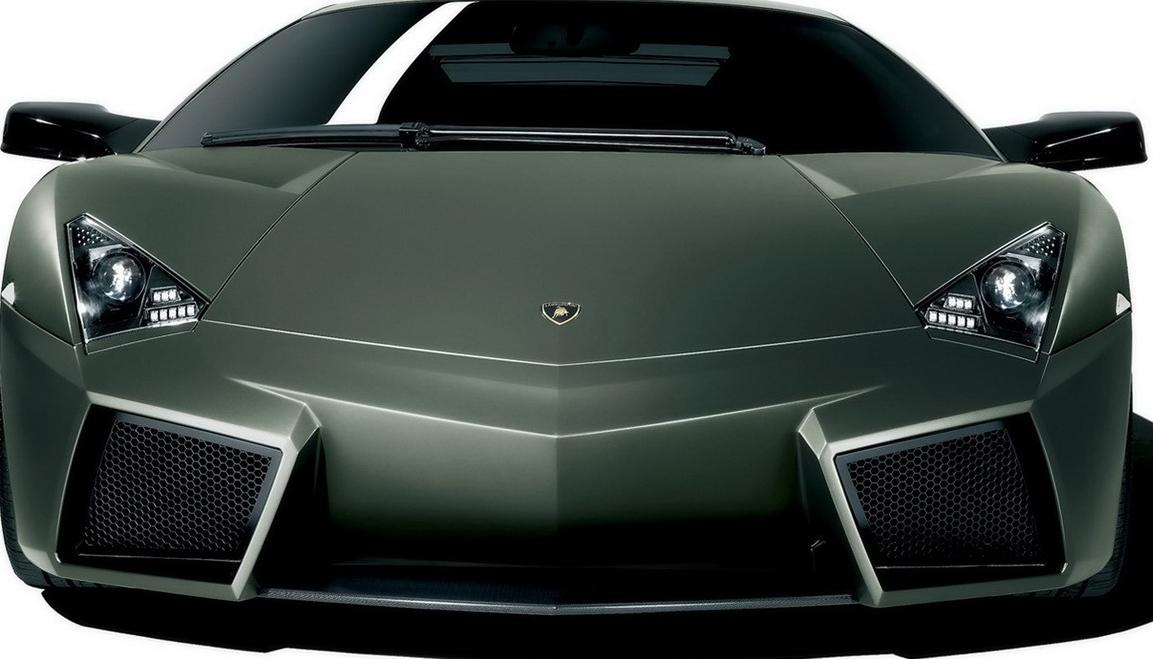front_view: (22, 175, 1131, 619)
headlight: (49, 198, 213, 353)
